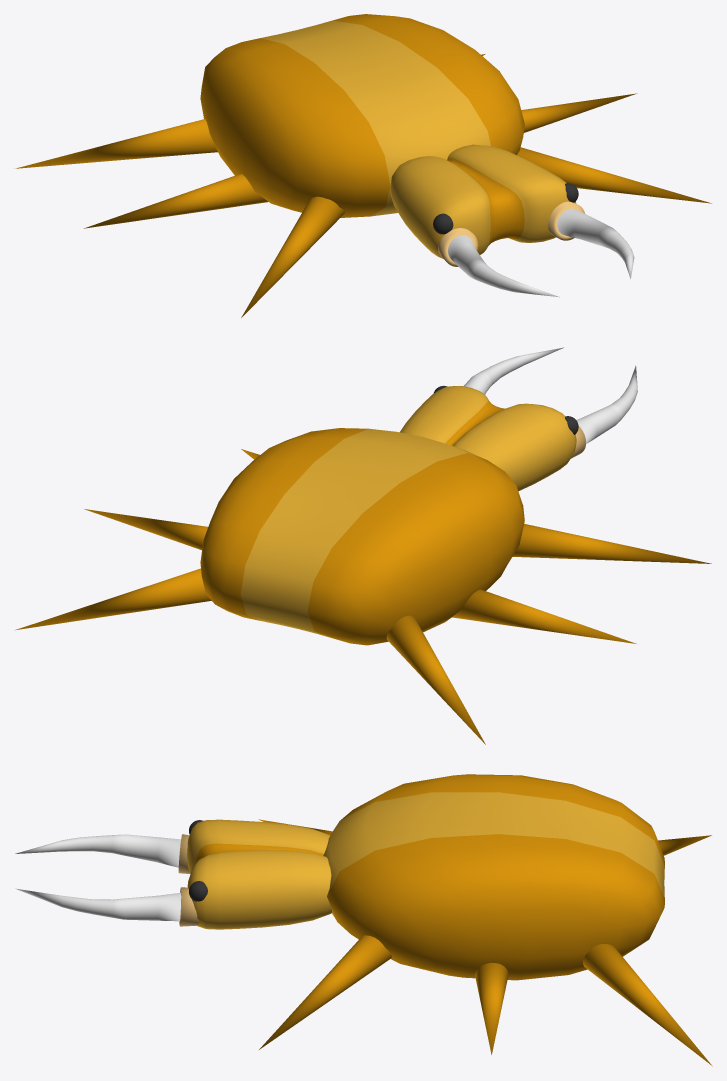
The model's file is Fourmillion.fbx.
3 views of the same model, one above another, from view 1: azimuth 30°, elevation 25°; view 2: azimuth 150°, elevation 25°; view 3: azimuth 270°, elevation 25° (orthographic).
Visible parts, largest first — view 1: Body, Head, mandibule.L, mandibule.R; view 2: Body, Head, mandibule.R, mandibule.L; view 3: Body, Head, mandibule.L, mandibule.R.
Boxes of the visible parts, x1,y1,x2,y2 form: Body: [14, 14, 711, 317]; Head: [390, 144, 578, 259]; mandibule.L: [548, 201, 634, 278]; mandibule.R: [438, 228, 559, 297]; Body: [15, 428, 711, 744]; Head: [400, 385, 578, 491]; mandibule.R: [570, 365, 637, 458]; mandibule.L: [464, 347, 563, 394]; Body: [258, 774, 712, 1066]; Head: [187, 819, 332, 929]; mandibule.L: [15, 887, 199, 926]; mandibule.R: [15, 834, 190, 873].
Bounding box in the file's own units: 0.3029 × 0.0659 × 0.2788.
